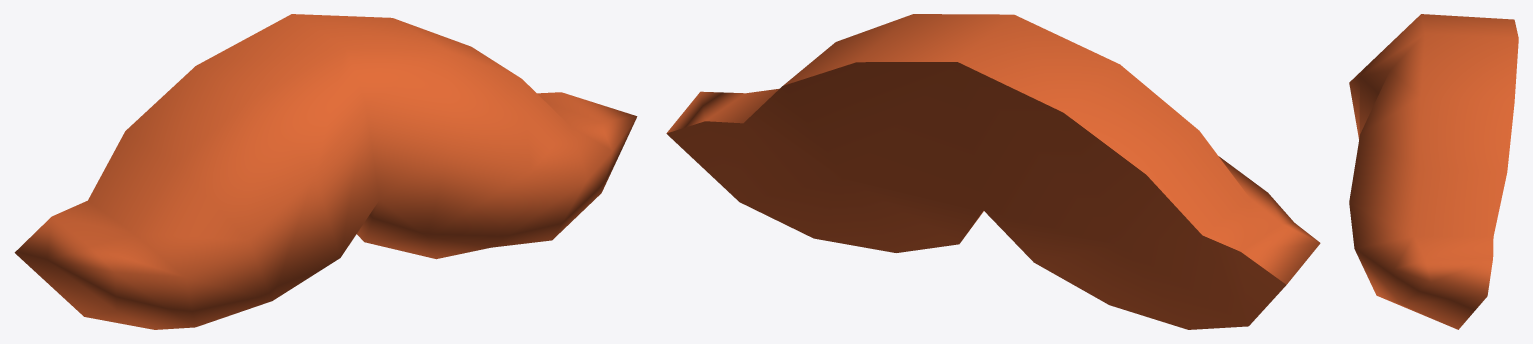
The model's file is Mustache_10.fbx.
3 views of the same model, side by side, from view 1: azimuth 30°, elevation 25°; view 2: azimuth 150°, elevation 25°; view 3: azimuth 270°, elevation 25° (orthographic). The views are drawn at different scales.
Parts seen in each view (by area): view 1: Mustache_10; view 2: Mustache_10; view 3: Mustache_10.
Boxes of the visible parts, <box> form: Mustache_10: <box>14,14,637,329</box>; Mustache_10: <box>666,14,1320,329</box>; Mustache_10: <box>1349,14,1518,329</box>.
Bounding box in the file's own units: 25.76 × 10.32 × 7.4.
